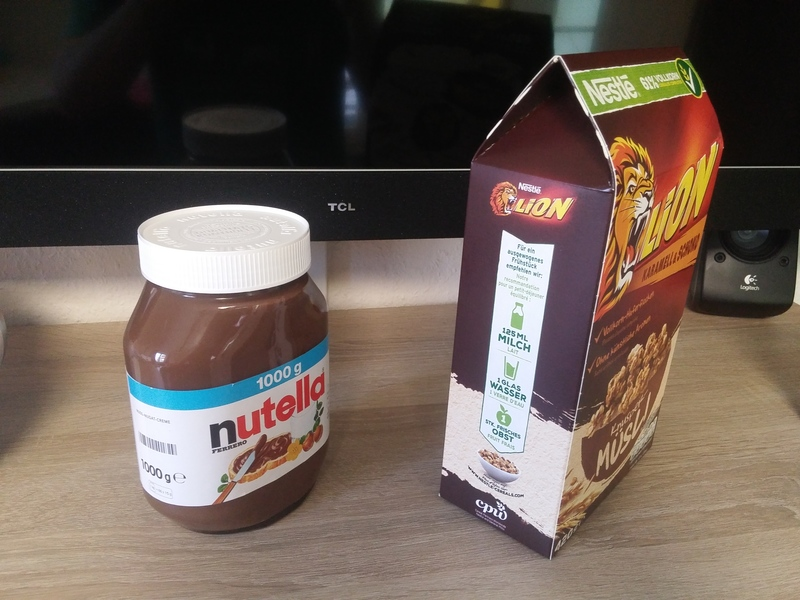cereals: (439, 46, 725, 560)
nutella: (122, 204, 334, 535)
